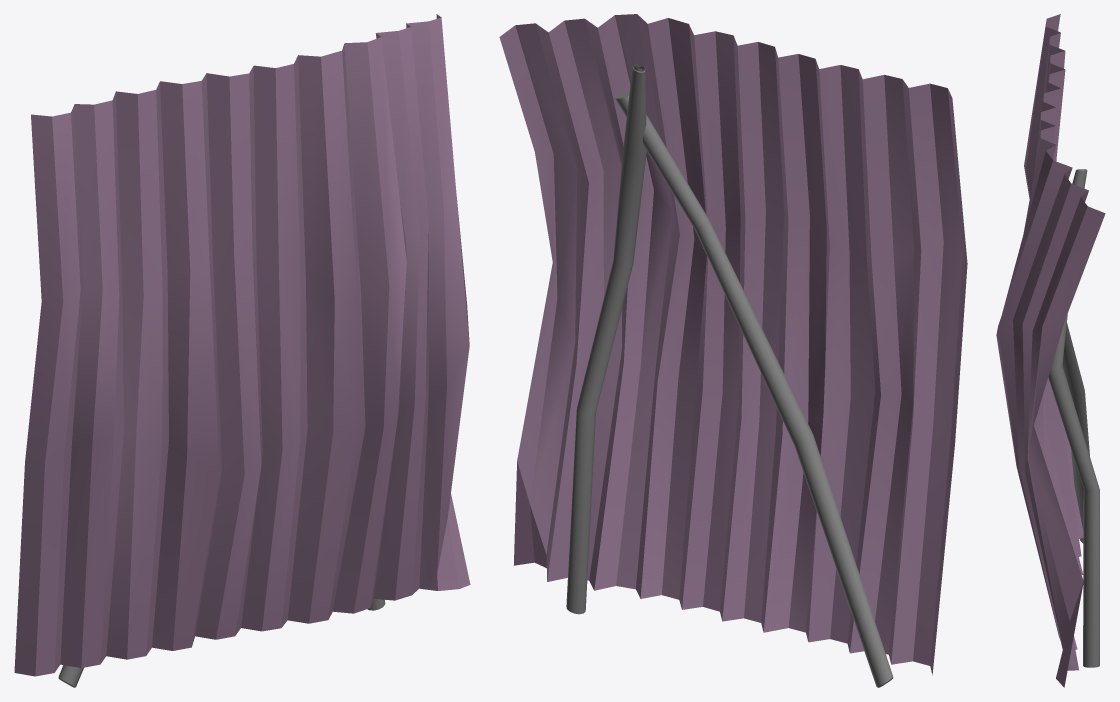
File: Baricade_01_04.fbx
3 renders of one model, left to right at view 1: azimuth 30°, elevation 25°; view 2: azimuth 150°, elevation 25°; view 3: azimuth 270°, elevation 25°, orthographic. The views are drawn at different scales.
Parts seen in each view (by area): view 1: Baricade_01_04; view 2: Baricade_01_04; view 3: Baricade_01_04.
Part boxes in pixels (x1,y1,x2,y2): Baricade_01_04: (14,14,470,687); Baricade_01_04: (499,14,967,687); Baricade_01_04: (996,14,1105,687).
Size of the model in its own units: 290 by 372 by 72.61.
